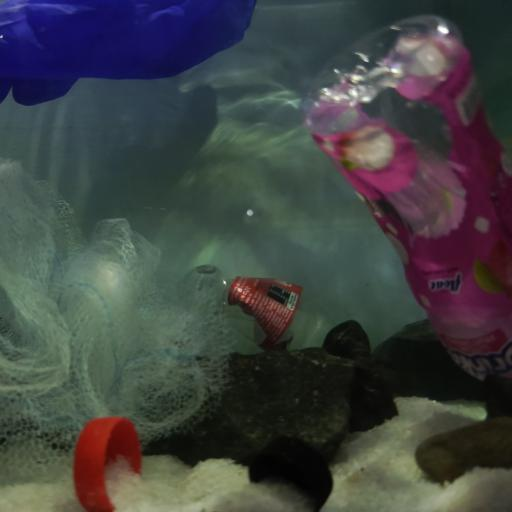bottle_cap: (248, 434, 335, 512), (74, 415, 142, 512)
glove: (0, 0, 260, 108)
plastic_bag: (0, 155, 238, 471)
plastic_bottle: (303, 16, 512, 390), (184, 263, 347, 351)
